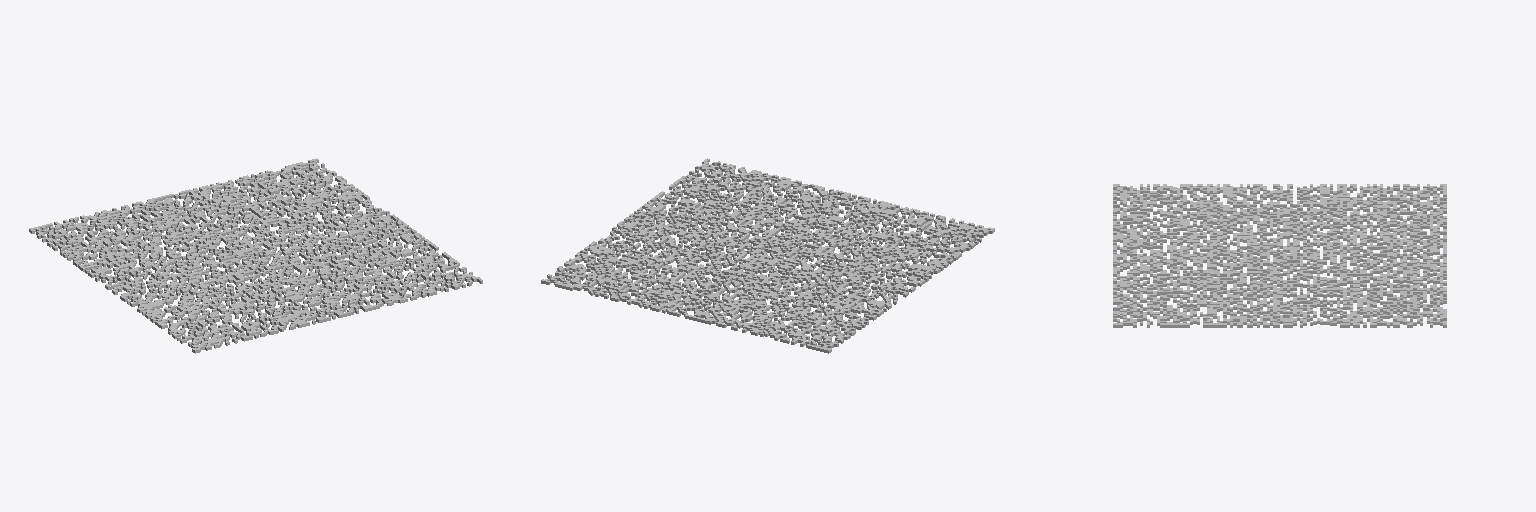
File: ground.obj
3 renders of one model, left to right at view 1: azimuth 30°, elevation 25°; view 2: azimuth 150°, elevation 25°; view 3: azimuth 270°, elevation 25°, orthographic.
Visible parts, largest first — view 1: object 1; view 2: object 1; view 3: object 1.
Part boxes in pixels (x1,y1,x2,y2): object 1: (29,158,482,353); object 1: (541,158,994,353); object 1: (1113,184,1446,327).
Bounding box in the file's own units: 10 × 0.1 × 10.